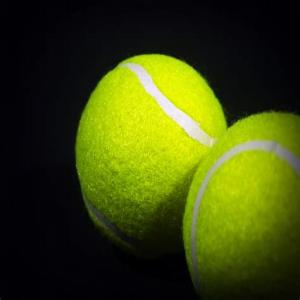Tennis: (73, 45, 228, 250), (179, 102, 300, 299)
